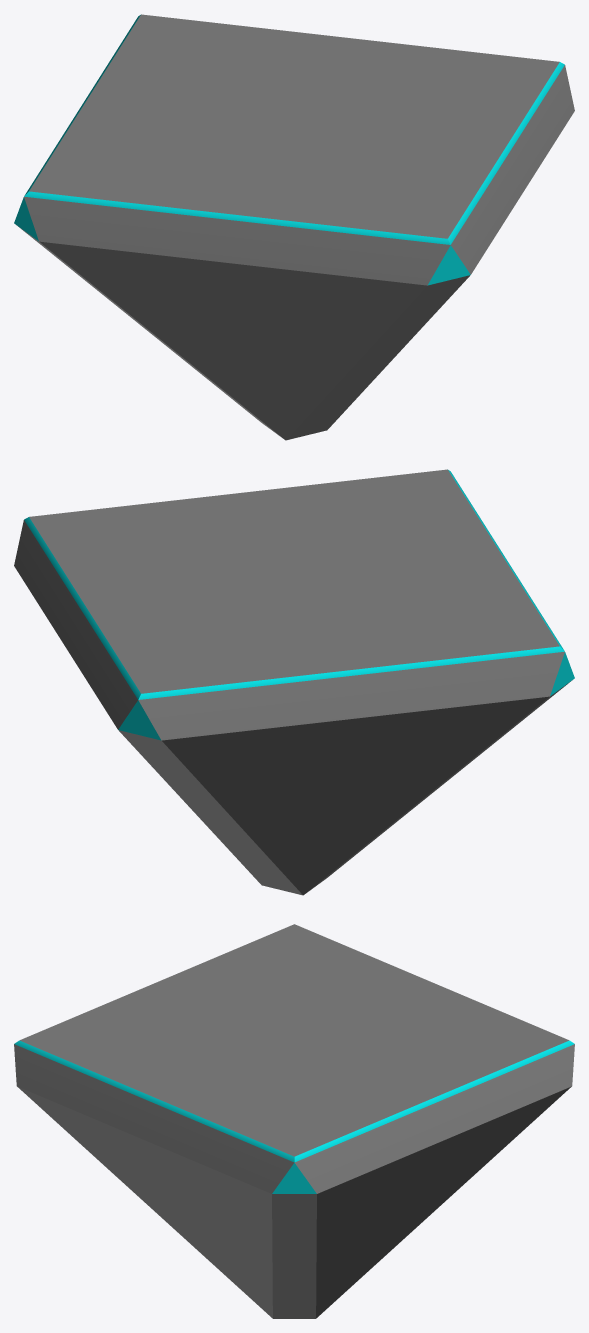
Rendered from Gray Platform1.fbx.
3 renders of one model, top to bottom at view 1: azimuth 30°, elevation 25°; view 2: azimuth 150°, elevation 25°; view 3: azimuth 270°, elevation 25°, orthographic. The views are drawn at different scales.
Parts seen in each view (by area): view 1: pPyramid3; view 2: pPyramid3; view 3: pPyramid3.
Boxes of the visible parts, x1,y1,x2,y2 form: pPyramid3: (14, 14, 574, 440); pPyramid3: (14, 469, 574, 895); pPyramid3: (14, 924, 574, 1318).
Size of the model in its own units: 5.08 by 2.69 by 5.08.
